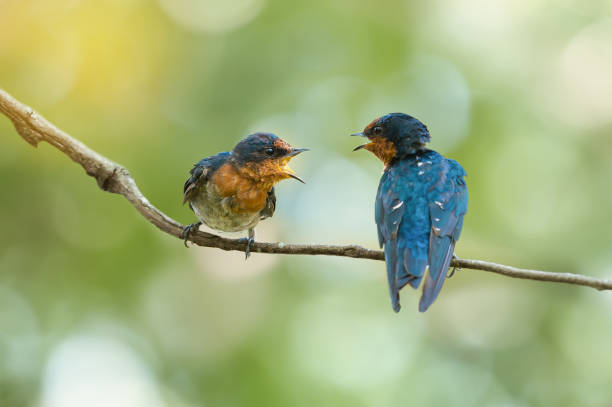Bird: (346, 109, 468, 315), (177, 127, 309, 260)
